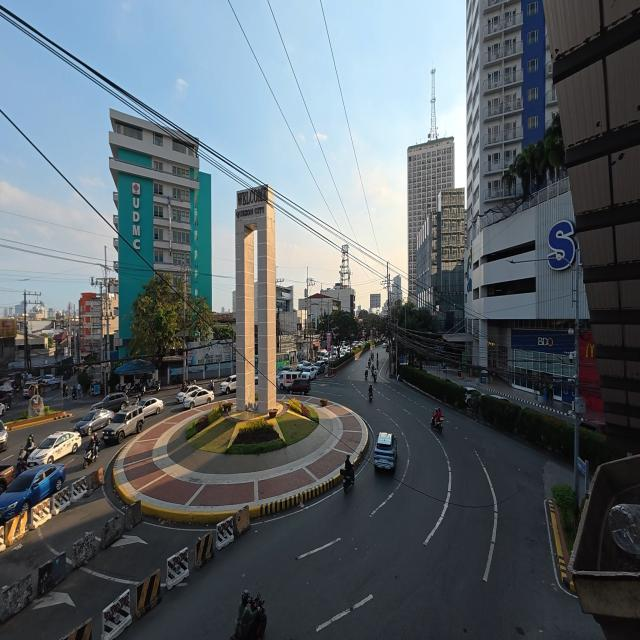car: (0, 465, 65, 522), (27, 432, 81, 466), (102, 406, 144, 444), (75, 409, 114, 435), (374, 432, 397, 468), (91, 392, 128, 411), (183, 390, 214, 408), (139, 398, 163, 417), (176, 385, 201, 403), (0, 465, 15, 493), (290, 377, 310, 395), (580, 420, 605, 434), (183, 387, 204, 403), (220, 375, 236, 394), (465, 387, 480, 403), (0, 421, 8, 451), (23, 382, 38, 397), (489, 394, 512, 403), (302, 366, 317, 379), (314, 361, 326, 374), (296, 361, 310, 371), (42, 375, 54, 384), (277, 366, 291, 373), (0, 403, 6, 416), (255, 373, 259, 384), (382, 342, 387, 349)
motorcycle: (245, 593, 266, 639), (15, 446, 34, 475), (341, 469, 354, 493), (84, 446, 98, 468), (431, 412, 443, 433), (72, 388, 77, 400), (369, 390, 373, 401), (374, 373, 377, 382), (365, 370, 368, 379)
vans: (276, 370, 302, 390)
